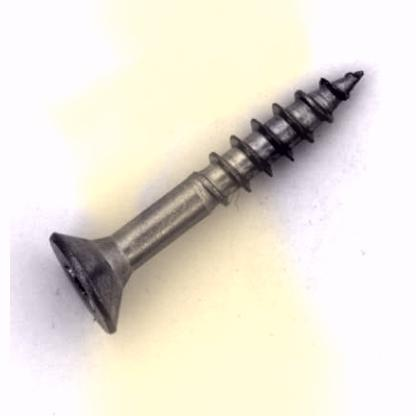metal: (48, 68, 364, 334)
